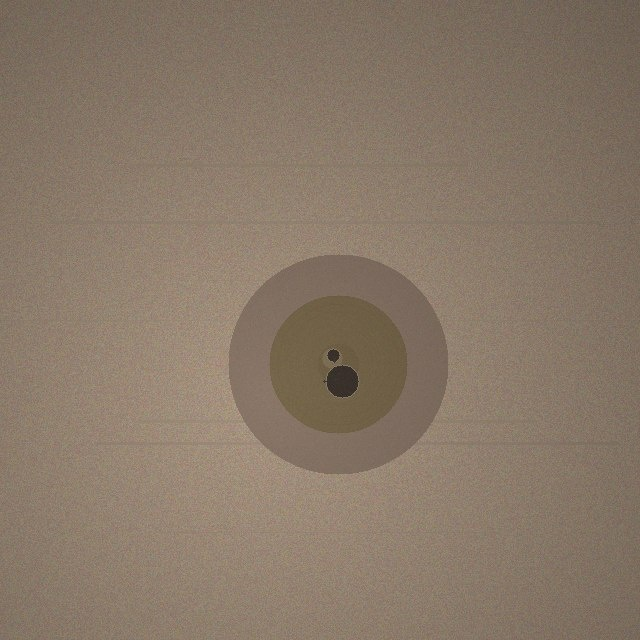shrinkage: (228, 254, 448, 474)
